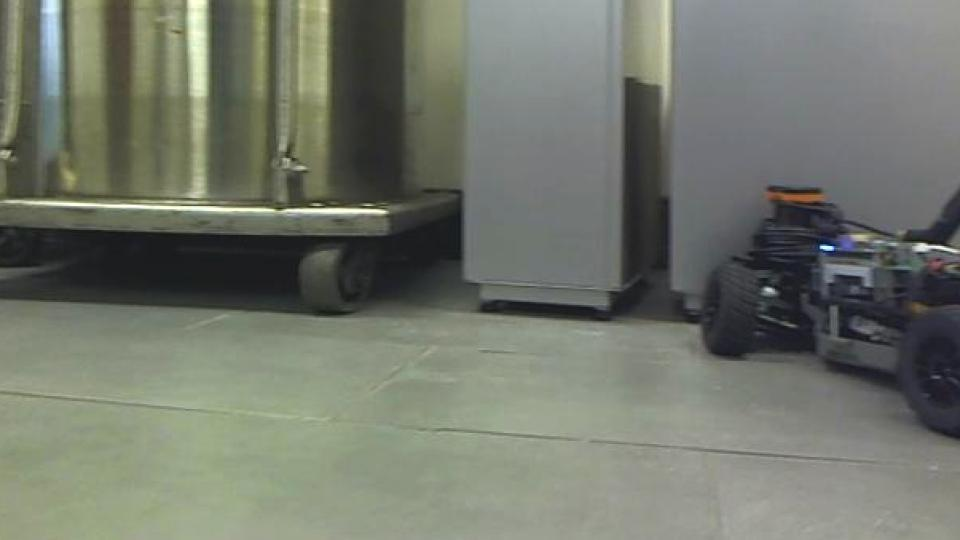car: (0, 0, 464, 316), (695, 130, 960, 442)
